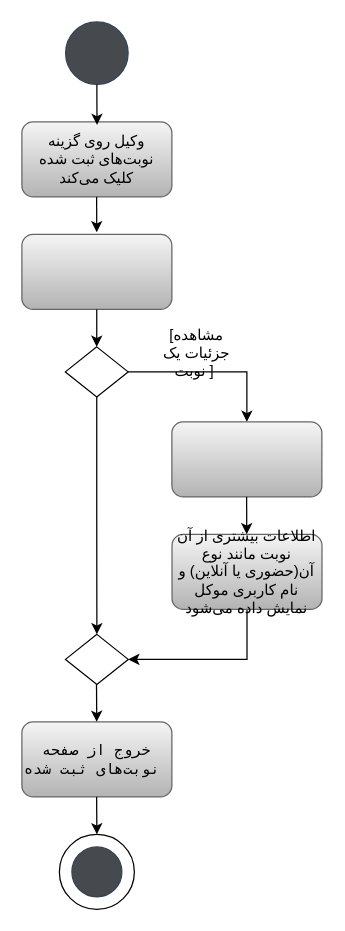
Some shapes in this 345 by 931 pixel diagram are drawn without their labels. The shapes that lost their labels are listed below. From the top down, each one's centre as x and y in pixels, then its label:
the point at 96,271: لیست تمامی نوبت‌های رزرو شده آن وکیل به او نمایش داده می‌شود
the point at 246,459: وکیل به دلخواه خود روی یکی از نوبت‌ها کلیک می‌کند
